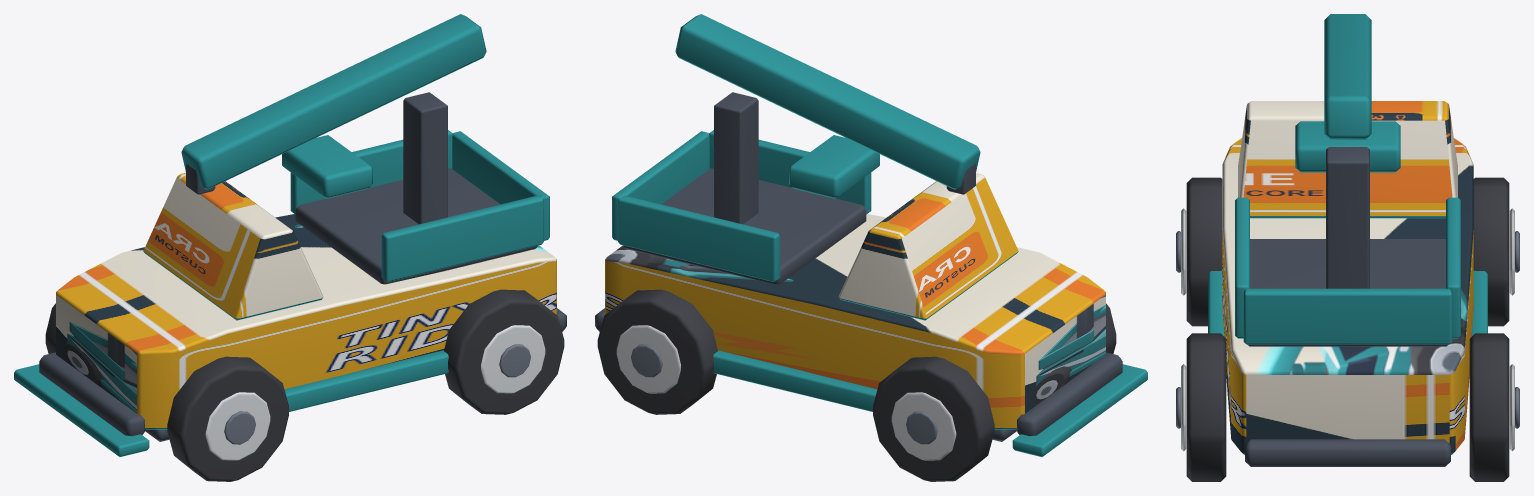
3 renders of one model, left to right at view 1: azimuth 30°, elevation 25°; view 2: azimuth 150°, elevation 25°; view 3: azimuth 270°, elevation 25°, orthographic. The views are drawn at different scales.
Parts seen in each view (by area): view 1: WY-04_connected_shell, boom, WY-04_cabin, Tire, Tire.002, cargo side, cargo floor, boom pillar, custom side guard, custom equipment, cargo tail, custom chin (+6 smaller); view 2: WY-04_connected_shell, boom, WY-04_cabin, Tire.001, Tire.003, cargo side.001, cargo floor, boom pillar, custom side guard.001, custom equipment, cargo tail, custom chin (+6 smaller); view 3: WY-04_connected_shell, WY-04_cabin, cargo tail, cargo floor, boom pillar, Tire.002, Tire.003, boom, rear bumper, Tire, Tire.001, custom equipment (+8 smaller).
Part boxes in pixels (x1,y1,x2,y2): WY-04_connected_shell: (56,214,556,429); boom: (181,14,486,189); WY-04_cabin: (143,172,323,320); Tire: (167,356,288,481); Tire.002: (444,289,564,414); cargo side: (381,195,543,281); cargo floor: (295,168,537,284); boom pillar: (403,92,447,224); custom side guard: (284,350,448,411); custom equipment: (282,135,372,198); cargo tail: (452,131,549,240); custom chin: (14,364,149,456); WY-04_connected_shell: (605,214,1105,429); boom: (675,14,980,189); WY-04_cabin: (838,172,1018,320); Tire.001: (873,356,994,481); Tire.003: (597,289,717,414); cargo side.001: (618,195,780,281); cargo floor: (624,168,866,284); boom pillar: (714,92,758,224); custom side guard.001: (713,350,877,411); custom equipment: (789,135,879,198); cargo tail: (612,131,709,240); custom chin: (1012,364,1147,456); WY-04_connected_shell: (1222,138,1473,454); WY-04_cabin: (1238,101,1457,218); cargo tail: (1243,288,1452,344); cargo floor: (1247,239,1448,346); boom pillar: (1326,147,1369,288); Tire.002: (1186,333,1226,481); Tire.003: (1469,333,1509,481); boom: (1324,14,1371,139); rear bumper: (1245,439,1450,466); Tire: (1186,177,1222,326); Tire.001: (1473,177,1509,326); custom equipment: (1295,121,1400,172).
Size of the model in its own units: 404 by 285 by 226.
